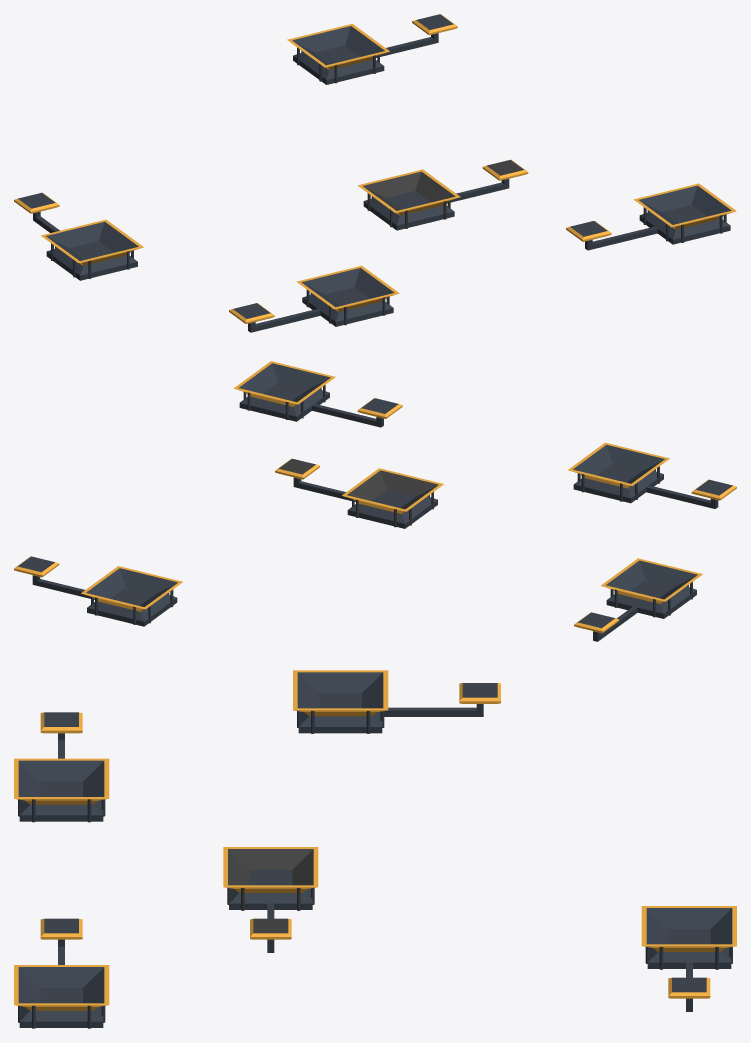
File: World_V2_Machines.fbx
3 views of the same model, one above another, from view 1: azimuth 30°, elevation 25°; view 2: azimuth 150°, elevation 25°; view 3: azimuth 270°, elevation 25° (orthographic). The views are drawn at different scales.
Visible parts, largest first — view 1: C_Machine.002, C_Machine.003, C_Machine, C_Machine.001, C_Machine.004; view 2: C_Machine.003, C_Machine.002, C_Machine.001, C_Machine, C_Machine.004; view 3: C_Machine.004, C_Machine.003, C_Machine.002, C_Machine.001, C_Machine.
Part boxes in pixels (left/top/right/bottom): C_Machine.002: left=566, top=183, right=736, bottom=250; C_Machine.003: left=229, top=265, right=399, bottom=332; C_Machine: left=357, top=159, right=528, bottom=230; C_Machine.001: left=287, top=14, right=457, bottom=84; C_Machine.004: left=14, top=192, right=143, bottom=280; C_Machine.003: left=568, top=442, right=736, bottom=508; C_Machine.002: left=233, top=361, right=402, bottom=427; C_Machine.001: left=14, top=556, right=182, bottom=626; C_Machine: left=275, top=458, right=443, bottom=528; C_Machine.004: left=574, top=558, right=702, bottom=641; C_Machine.004: left=293, top=670, right=500, bottom=733; C_Machine.003: left=14, top=712, right=109, bottom=822; C_Machine.002: left=14, top=918, right=109, bottom=1028; C_Machine.001: left=641, top=906, right=736, bottom=1011; C_Machine: left=223, top=847, right=318, bottom=952.
Size of the model in its own units: 1137 by 40 by 1036.
